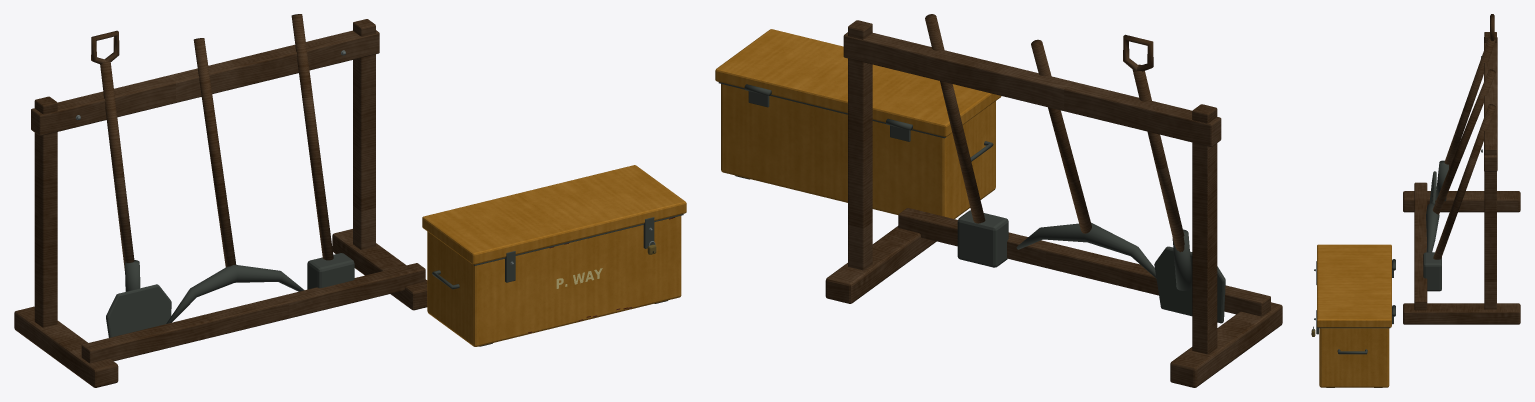
3 views of the same model, side by side, from view 1: azimuth 30°, elevation 25°; view 2: azimuth 150°, elevation 25°; view 3: azimuth 270°, elevation 25° (orthographic). The views are drawn at different scales.
Visible parts, largest first — view 1: TF3_KR_R12; view 2: TF3_KR_R12; view 3: TF3_KR_R12.
Boxes of the visible parts, <box> form: TF3_KR_R12: <box>14,14,686,387</box>; TF3_KR_R12: <box>715,14,1282,387</box>; TF3_KR_R12: <box>1311,14,1520,387</box>.
Bounding box in the file's own units: 2.65 × 1.37 × 1.23.
8 materials, 3 textured.
